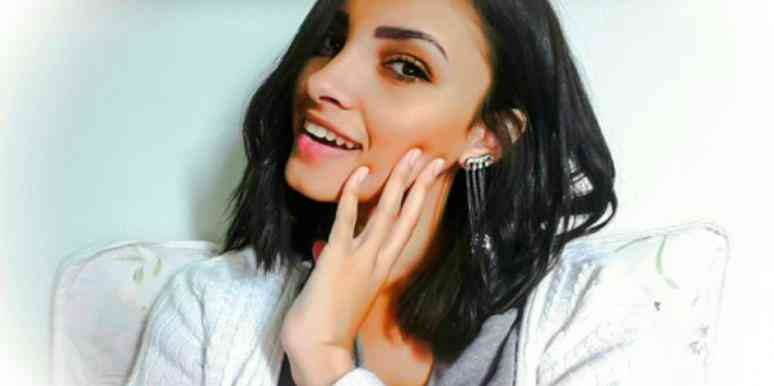happy: (278, 5, 469, 202)
